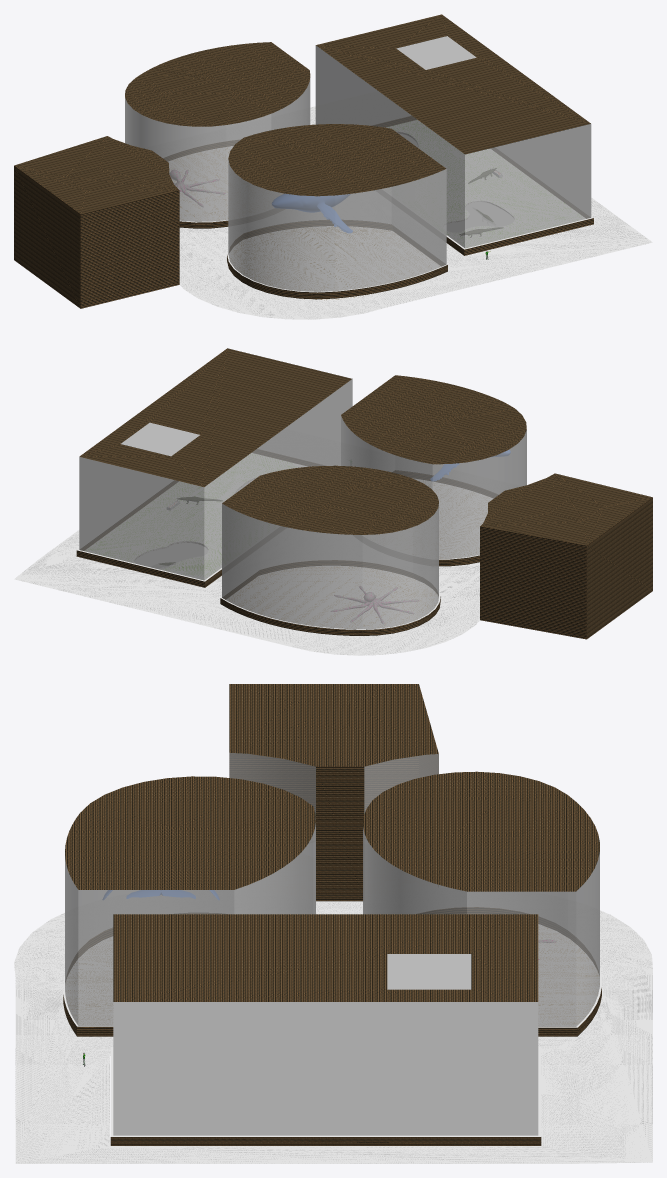
The picture shows the model from 3 angles, top to bottom: view 1: azimuth 30°, elevation 25°; view 2: azimuth 150°, elevation 25°; view 3: azimuth 270°, elevation 25°; orthographic projection. The views are drawn at different scales.
Parts seen in each view (by area): view 1: SketchUp (×20), group_9; view 2: SketchUp (×20), obj0_1; view 3: SketchUp (×20).
Boxes of the visible parts, bbox=[...] form: SketchUp (×20): bbox=[14, 14, 652, 319]; group_9: bbox=[272, 194, 352, 232]; SketchUp (×20): bbox=[14, 348, 652, 655]; obj0_1: bbox=[331, 586, 418, 623]; SketchUp (×20): bbox=[14, 684, 652, 1163].
Size of the model in its own units: 4243 by 3319 by 945.
